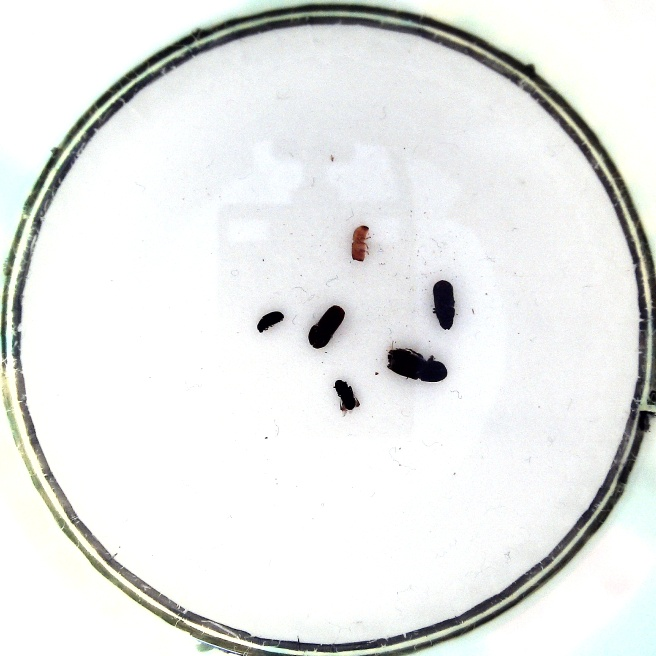acuminatus: (348, 221, 374, 264)
armandi: (431, 279, 460, 332)
boerner: (382, 343, 451, 386)
coleoptera: (330, 378, 361, 416), (255, 308, 287, 333)
linnaeus: (306, 302, 347, 350)
